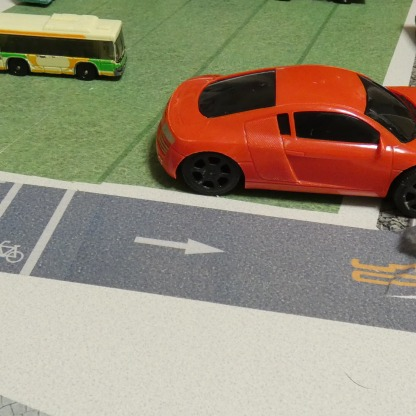car: (160, 68, 416, 217), (0, 10, 127, 76)
